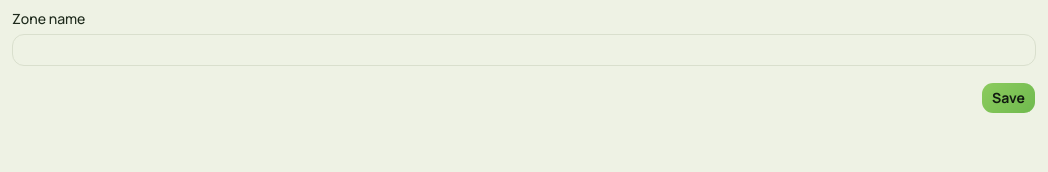
Test case: EntityForm › does not submit an invalid form and shows the schema's message on the field
Click the button "Save". click: [1009, 98]
box: top-left (981, 82), bottom-right (1036, 114)
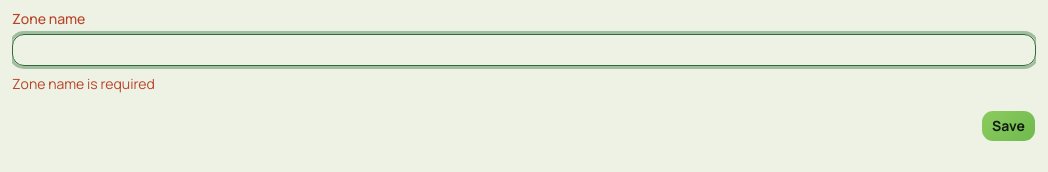
Result: the text "Zone name is required" is shown at top-left (12, 74), bottom-right (155, 93)
